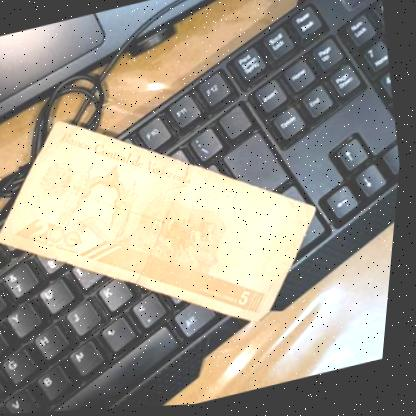five-back-vef: (0, 58, 369, 384)
